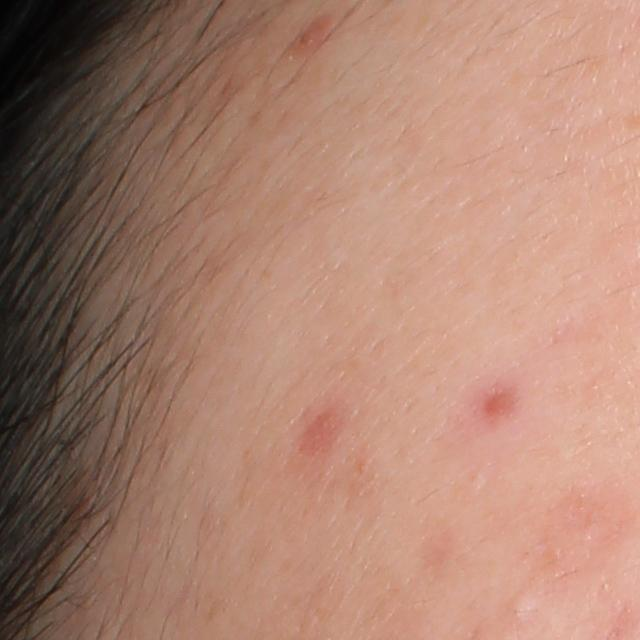comedo: (502, 589, 543, 630)
